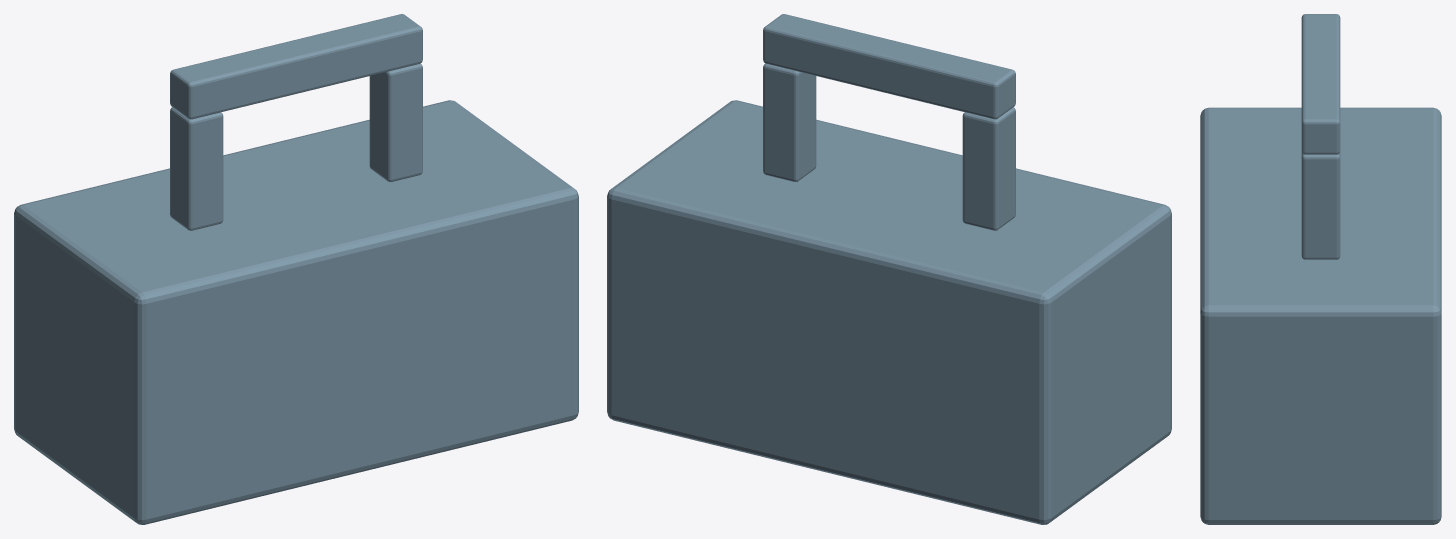
Rendered from toolbox_high.glb.
3 renders of one model, left to right at view 1: azimuth 30°, elevation 25°; view 2: azimuth 150°, elevation 25°; view 3: azimuth 270°, elevation 25°, orthographic. The views are drawn at different scales.
Visible parts, largest first — view 1: toolbox_0_high, toolbox_3_high, toolbox_1_high, toolbox_2_high; view 2: toolbox_0_high, toolbox_3_high, toolbox_1_high, toolbox_2_high; view 3: toolbox_0_high, toolbox_3_high, toolbox_2_high.
Boxes of the visible parts, x1,y1,x2,y2 form: toolbox_0_high: (14, 100, 578, 524); toolbox_3_high: (170, 14, 422, 119); toolbox_1_high: (170, 107, 223, 230); toolbox_2_high: (369, 63, 422, 181); toolbox_0_high: (607, 100, 1171, 524); toolbox_3_high: (763, 14, 1015, 119); toolbox_1_high: (962, 107, 1015, 230); toolbox_2_high: (763, 63, 816, 181); toolbox_0_high: (1200, 107, 1441, 524); toolbox_3_high: (1301, 14, 1340, 154); toolbox_2_high: (1301, 152, 1340, 259).
Size of the model in its own units: 2 by 1.64 by 1.
